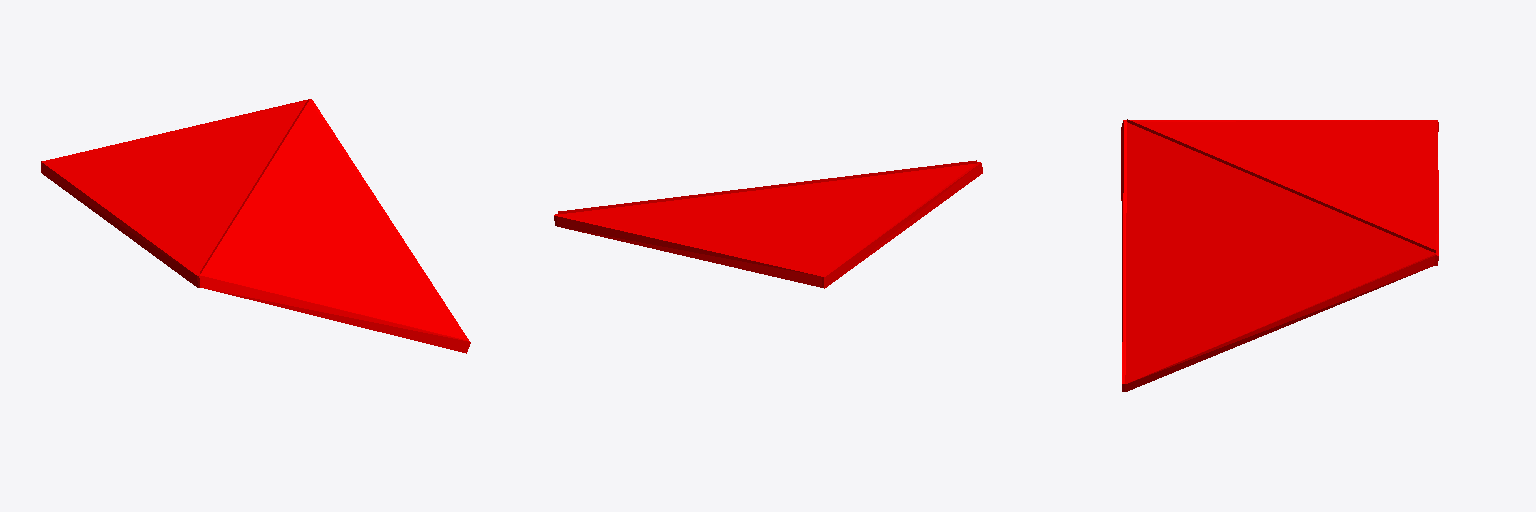
File: simpleRoofOut.obj
3 views of the same model, side by side, from view 1: azimuth 30°, elevation 25°; view 2: azimuth 150°, elevation 25°; view 3: azimuth 270°, elevation 25° (orthographic).
Visible parts, largest first — view 1: Cube.006_Cube.040; view 2: Cube.006_Cube.040; view 3: Cube.006_Cube.040.
Boxes of the visible parts, x1=… form: Cube.006_Cube.040: x1=41, y1=99, x2=470, y2=353; Cube.006_Cube.040: x1=554, y1=160, x2=982, y2=288; Cube.006_Cube.040: x1=1121, y1=119, x2=1438, y2=391.
Bounding box in the file's own units: 0.9977 × 0.5037 × 1.01.